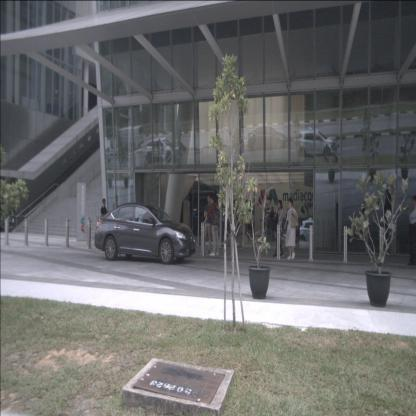human-pedestrian-adult: (202, 194, 220, 256), (284, 197, 299, 260), (200, 193, 214, 255), (272, 200, 284, 258), (407, 195, 415, 267), (100, 198, 108, 241), (269, 206, 275, 240)
vehicle-car: (94, 203, 196, 265), (296, 130, 335, 158), (248, 126, 286, 150), (145, 138, 179, 164), (252, 228, 286, 249), (116, 125, 144, 150), (300, 220, 328, 244)
